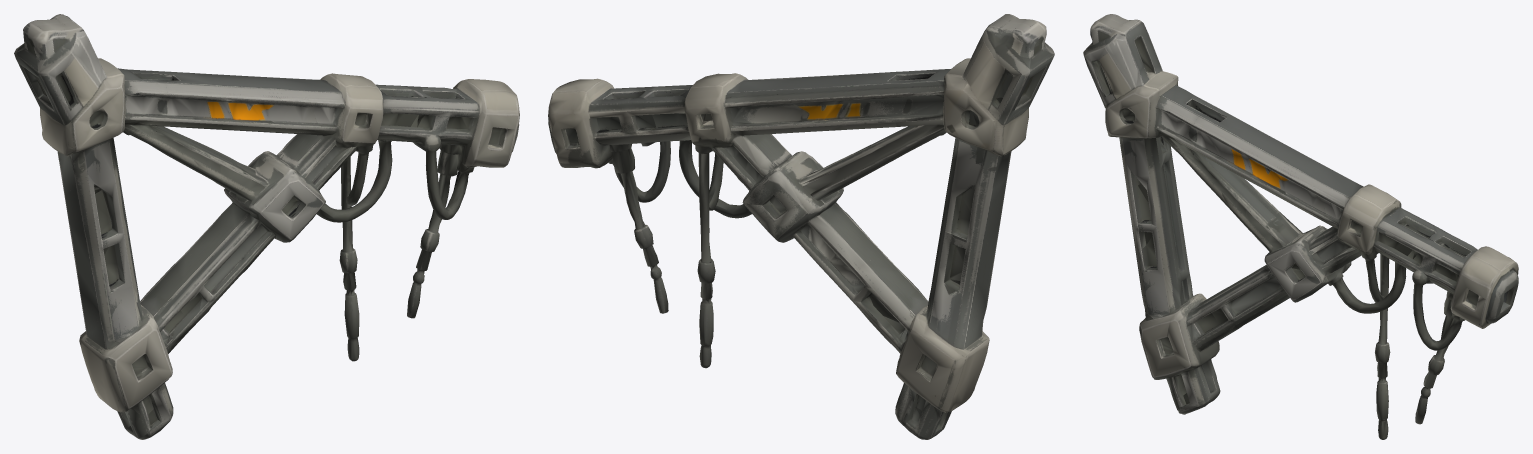
Rendered from 04_truss_triangle.fbx.
3 renders of one model, left to right at view 1: azimuth 30°, elevation 25°; view 2: azimuth 150°, elevation 25°; view 3: azimuth 330°, elevation 25°, orthographic. The views are drawn at different scales.
Visible parts, largest first — view 1: 04_truss_triangle; view 2: 04_truss_triangle; view 3: 04_truss_triangle.
Boxes of the visible parts, left/top/right/bottom form: 04_truss_triangle: left=14, top=14, right=519, bottom=439; 04_truss_triangle: left=548, top=14, right=1054, bottom=439; 04_truss_triangle: left=1083, top=14, right=1518, bottom=439.
Size of the model in its own units: 3 by 2.55 by 0.3656.
Materials: 1 (1 with a texture image).
